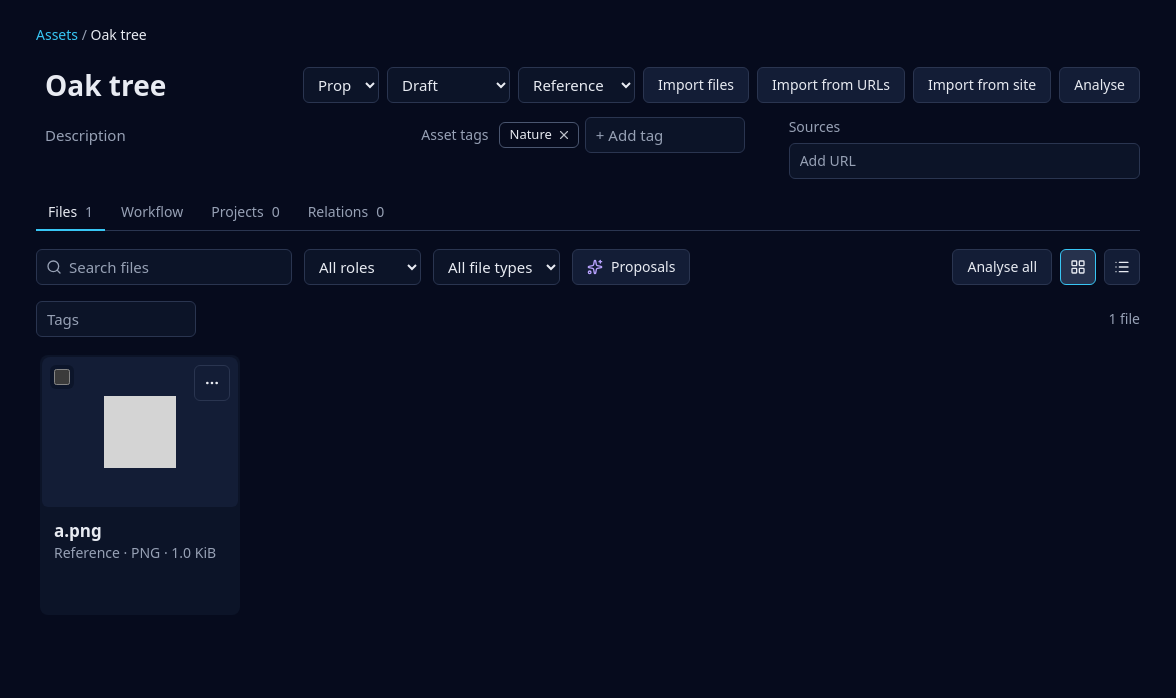
it: a read of the asset that started before a tag change does not undo it
The width and height of the screenshot is (1176, 698).
Check: the text "a.png" is shown, box left=54, top=518, right=102, bottom=542
Click the button named "File actions". click: (212, 382)
box: left=194, top=364, right=230, bottom=400
(page scrolled)
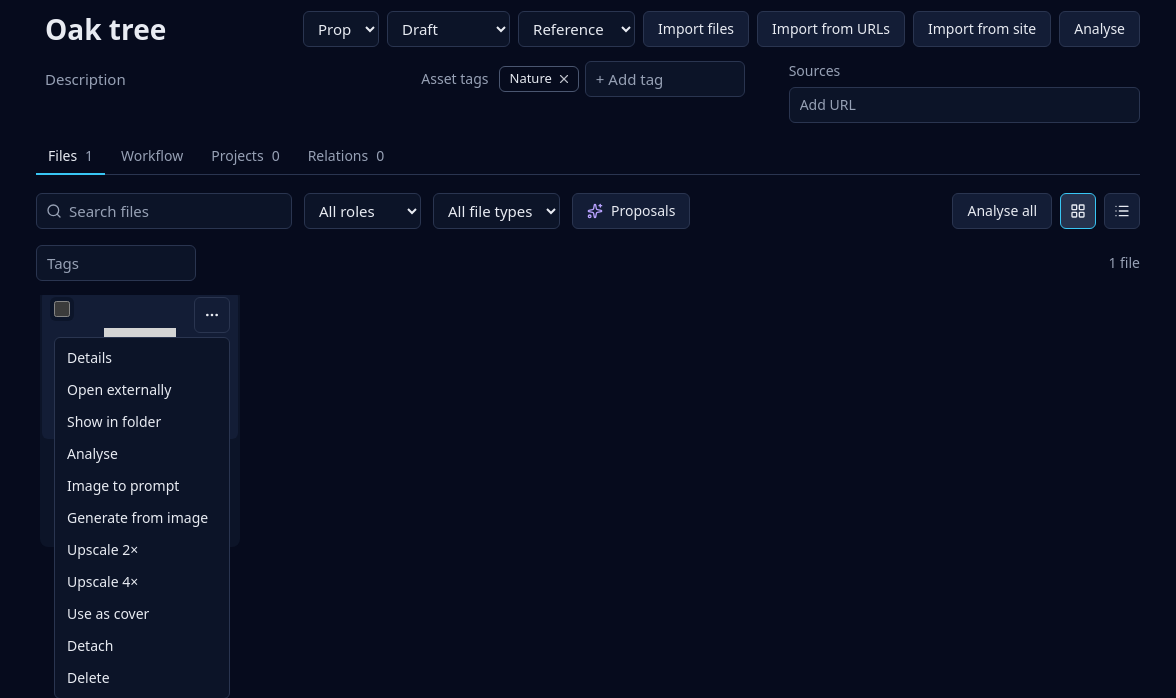
Click the menu item "Delete". click: (88, 677)
box: left=67, top=668, right=110, bottom=686
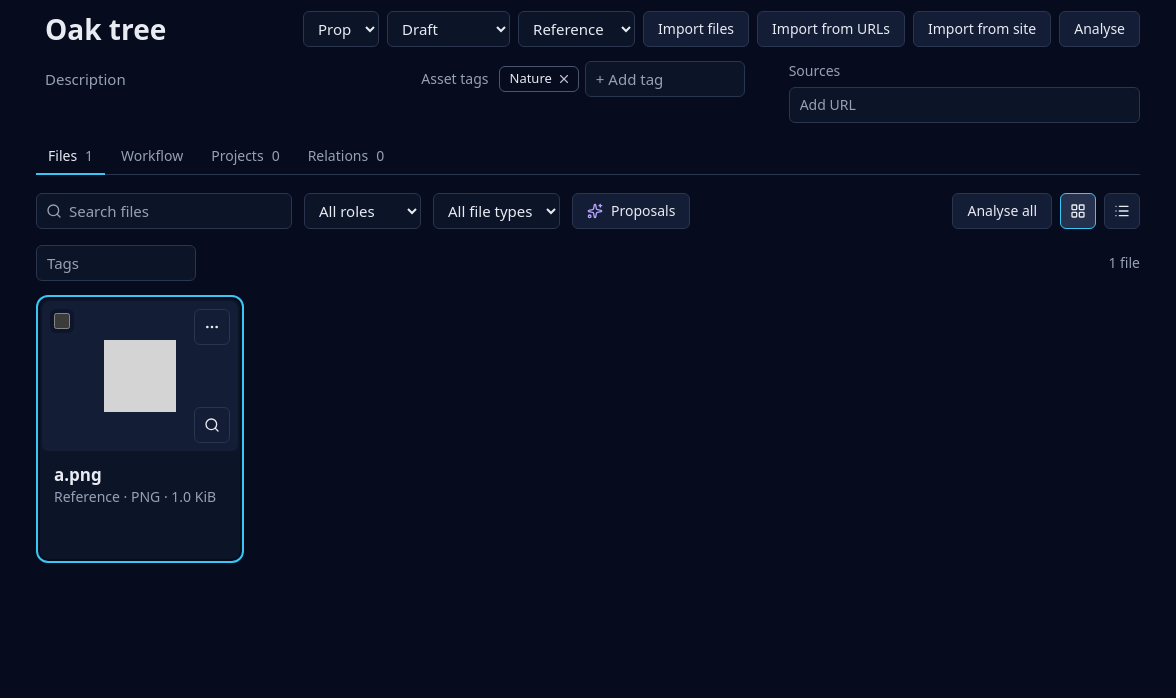
Type "Wood" into the dropdown named "Add asset tag". click: (665, 78)
box: left=585, top=60, right=745, bottom=96
Then press Enter
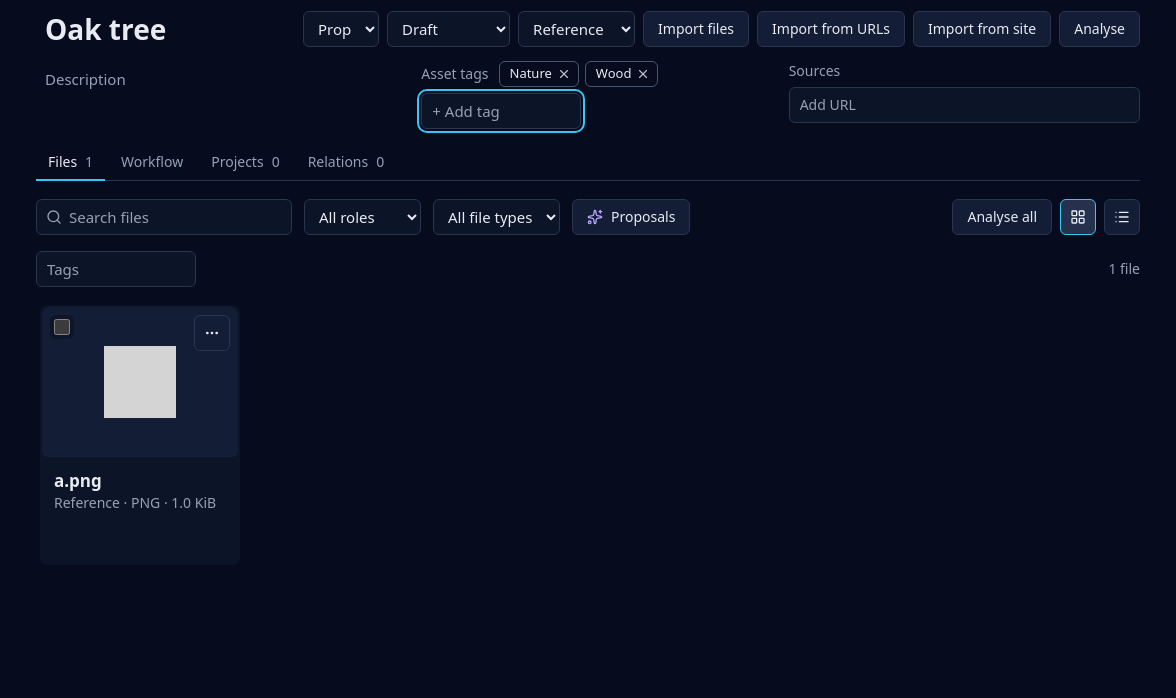
Check: the button named "Remove Wood" is shown, box left=635, top=66, right=651, bottom=82
